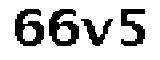5: (117, 5, 152, 51)
6: (7, 4, 46, 50), (46, 6, 81, 50)
v: (81, 16, 114, 49)
